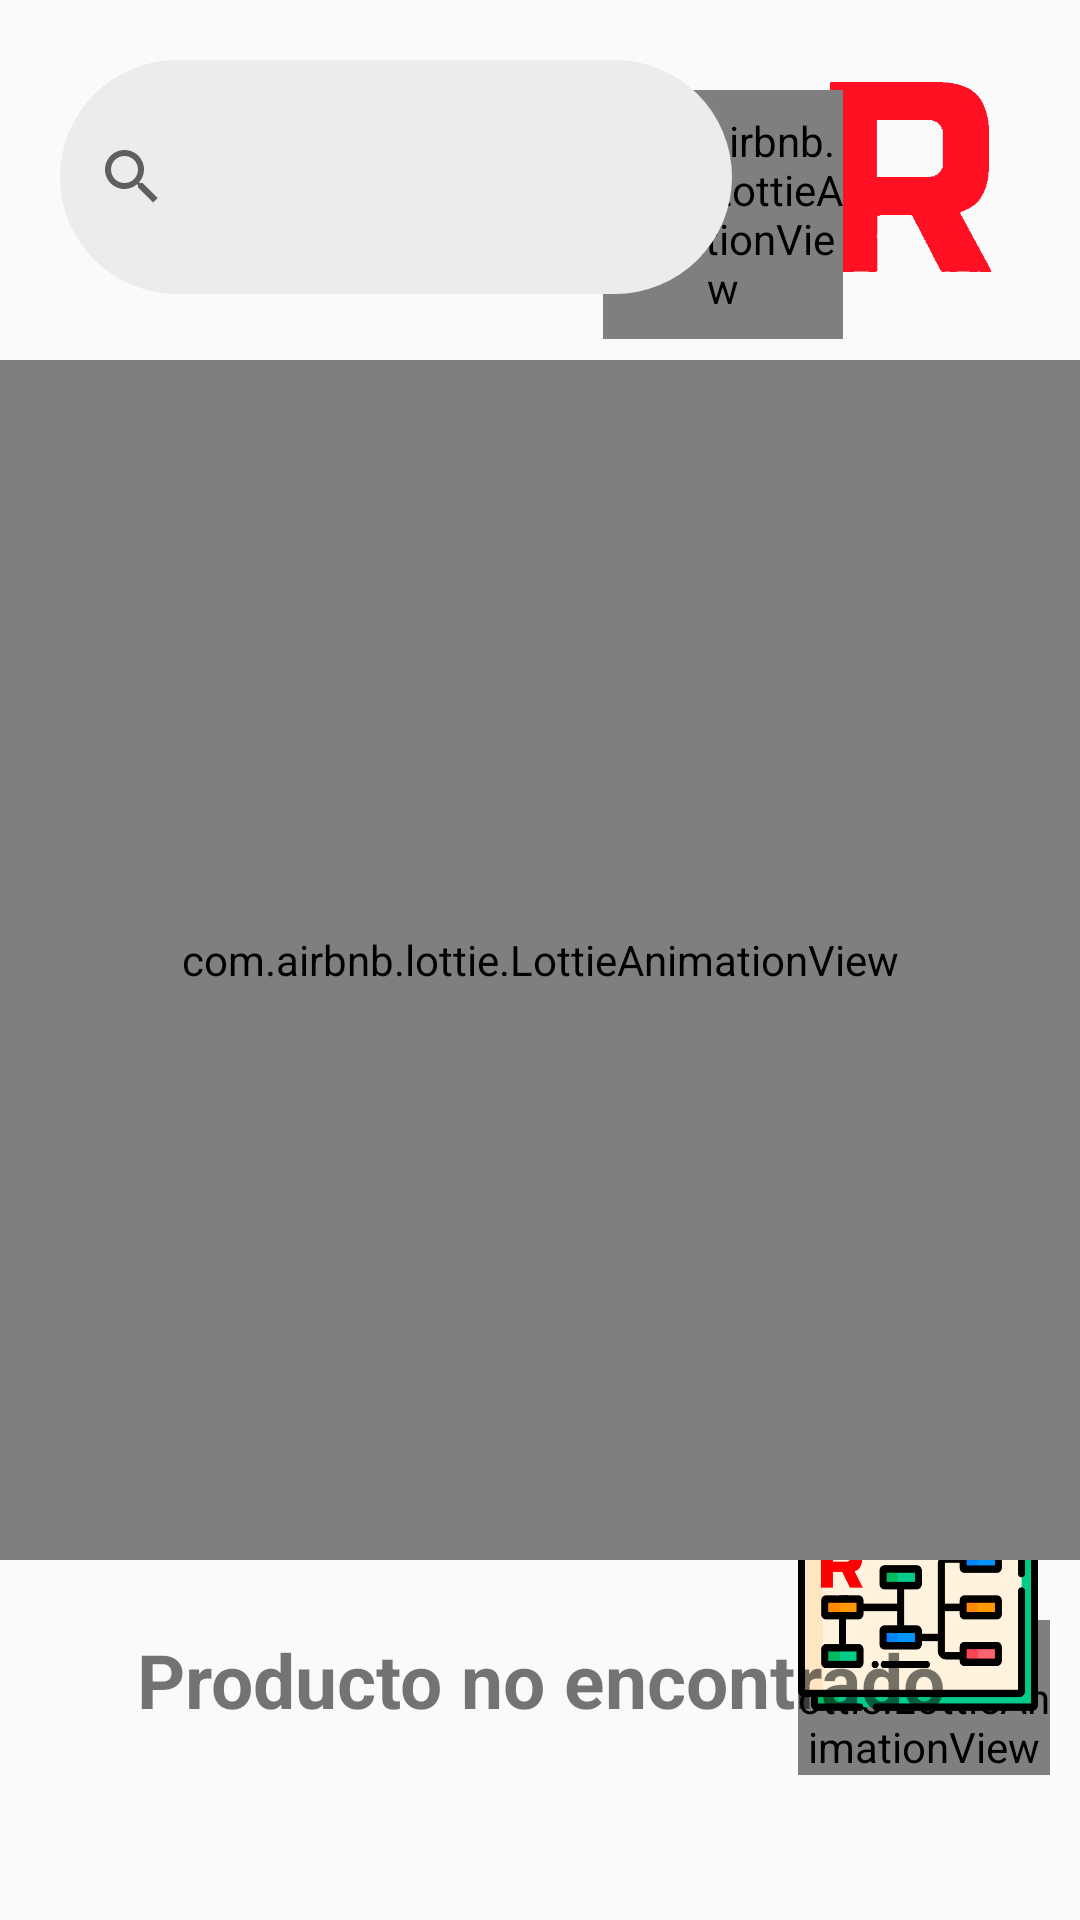

Point at icon controls on the screen. Image size 1080 × 1920, points as [x,y].
mapa racer: [918,1637]
